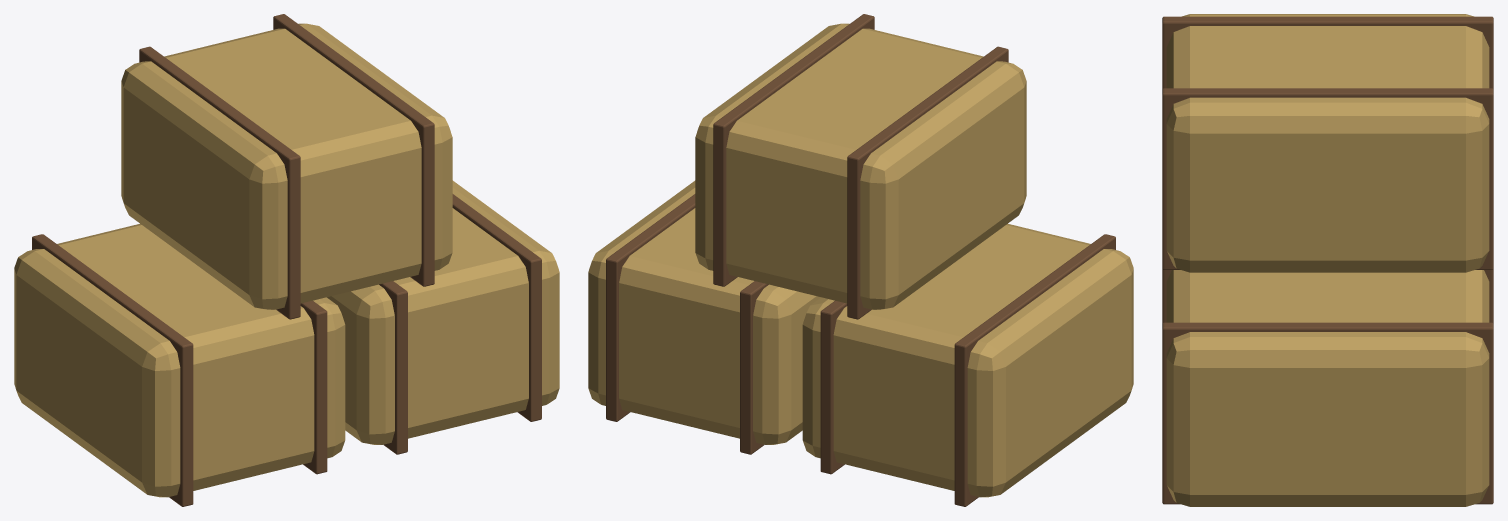
The model's file is prop-haystack.glb.
3 renders of one model, left to right at view 1: azimuth 30°, elevation 25°; view 2: azimuth 150°, elevation 25°; view 3: azimuth 270°, elevation 25°, orthographic. The views are drawn at different scales.
Visible parts, largest first — view 1: Golden thatch, Dark beams; view 2: Golden thatch, Dark beams; view 3: Golden thatch, Dark beams.
Boxes of the visible parts, x1,y1,x2,y2 form: Golden thatch: (14,23,559,497); Dark beams: (32,14,541,506); Golden thatch: (588,23,1133,497); Dark beams: (606,14,1115,506); Golden thatch: (1166,14,1489,506); Dark beams: (1162,16,1493,504).
Size of the model in its own units: 1.24 by 0.92 by 0.78.
